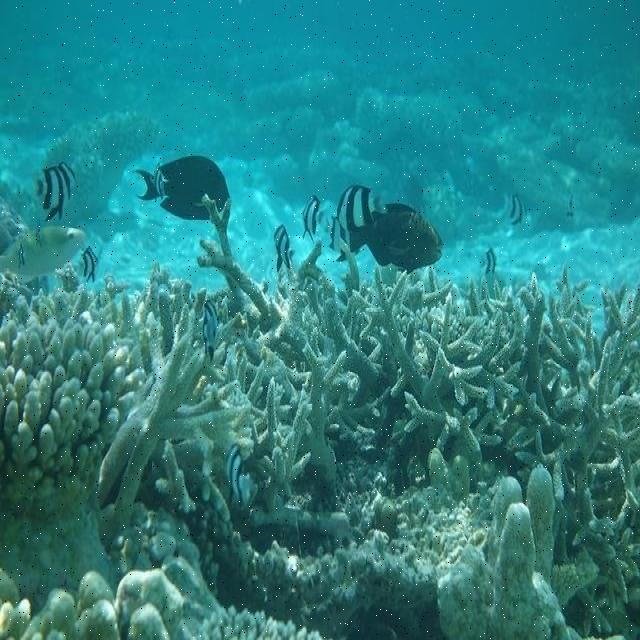fish: (349, 199, 443, 272), (137, 155, 232, 219), (2, 227, 86, 277), (36, 166, 76, 225), (339, 187, 374, 231), (273, 224, 294, 267), (303, 202, 320, 236)
reefs: (0, 207, 639, 640)
